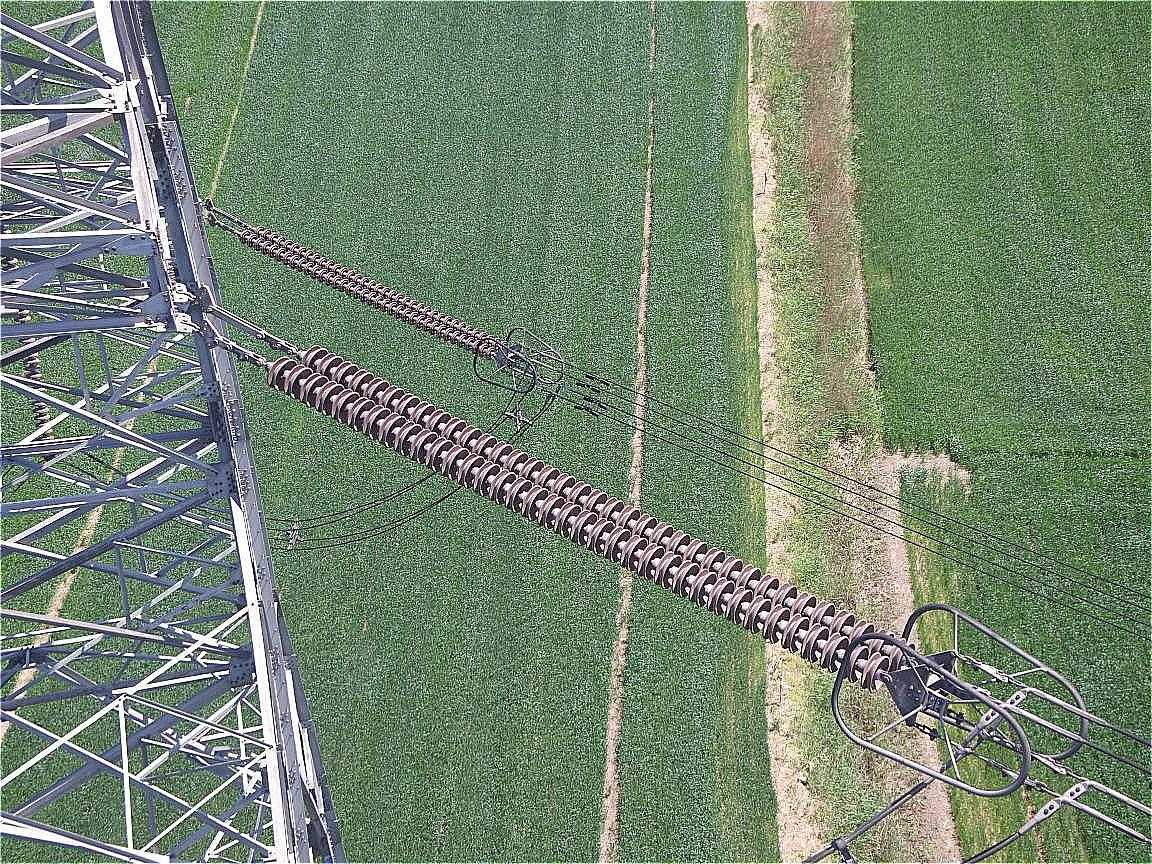insultor2: (234, 321, 922, 689), (233, 222, 515, 360)
